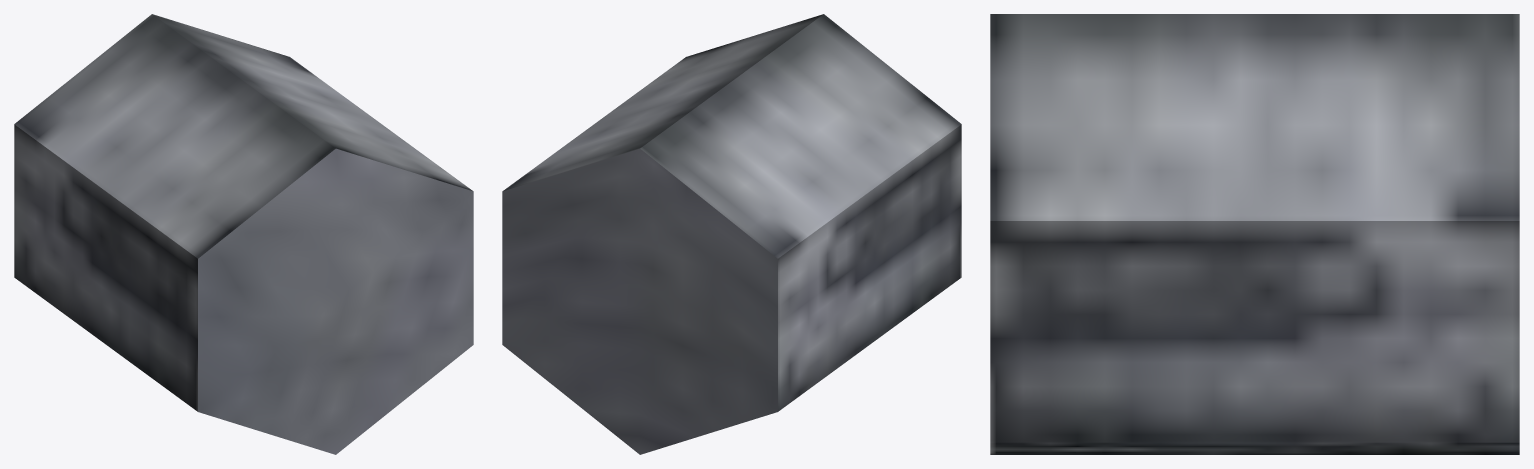
Rendered from gun_chamber_ver1.fbx.
The picture shows the model from 3 angles, left to right: view 1: azimuth 30°, elevation 25°; view 2: azimuth 150°, elevation 25°; view 3: azimuth 270°, elevation 25°; orthographic projection. The views are drawn at different scales.
Parts seen in each view (by area): view 1: Cylinder; view 2: Cylinder; view 3: Cylinder.
Part boxes in pixels (<box>): Cylinder: <box>14,14,473,454</box>; Cylinder: <box>502,14,961,454</box>; Cylinder: <box>990,14,1519,454</box>.
Bounding box in the file's own units: 68.31 × 72.54 × 78.88.
